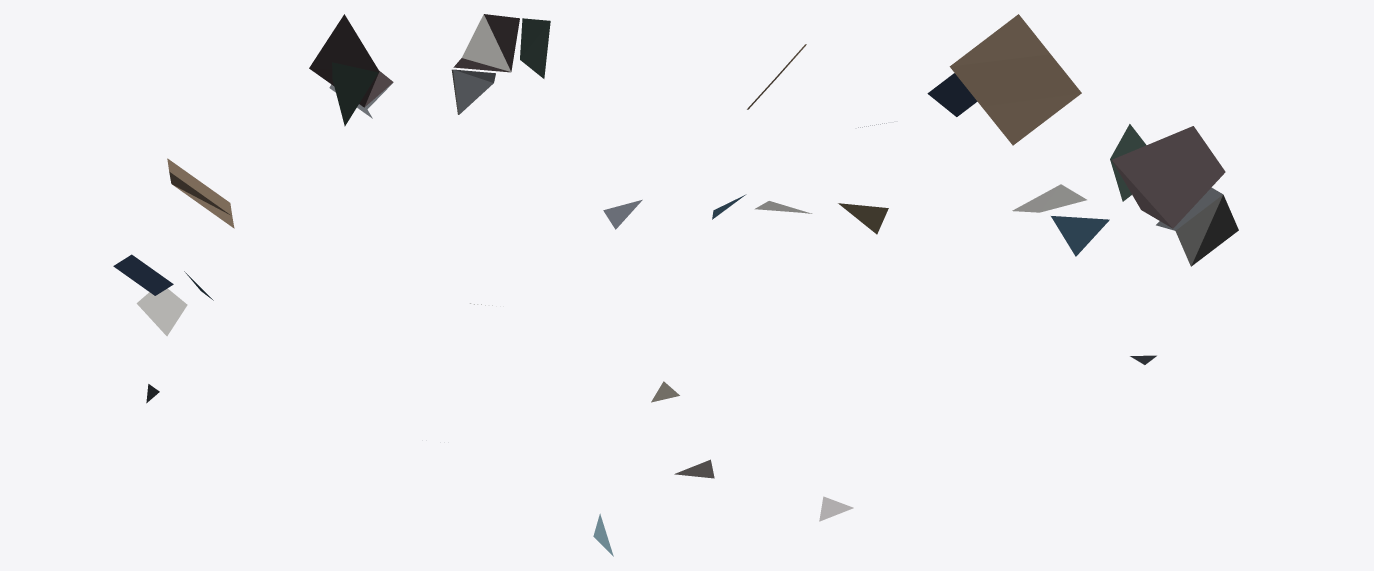
3 views of the same model, side by side, from view 1: azimuth 30°, elevation 25°; view 2: azimuth 150°, elevation 25°; view 3: azimuth 270°, elevation 25° (orthographic). The views are drawn at different scales.
Size of the model in its own units: 193 by 215 by 162.
